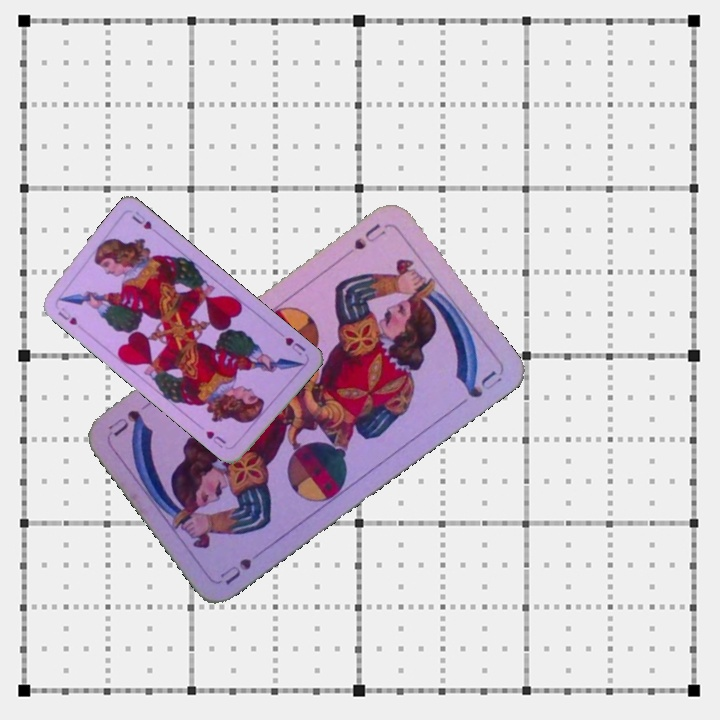HU: (281, 333, 308, 358), (54, 303, 80, 328)
SU: (215, 544, 269, 587), (350, 220, 389, 253)
